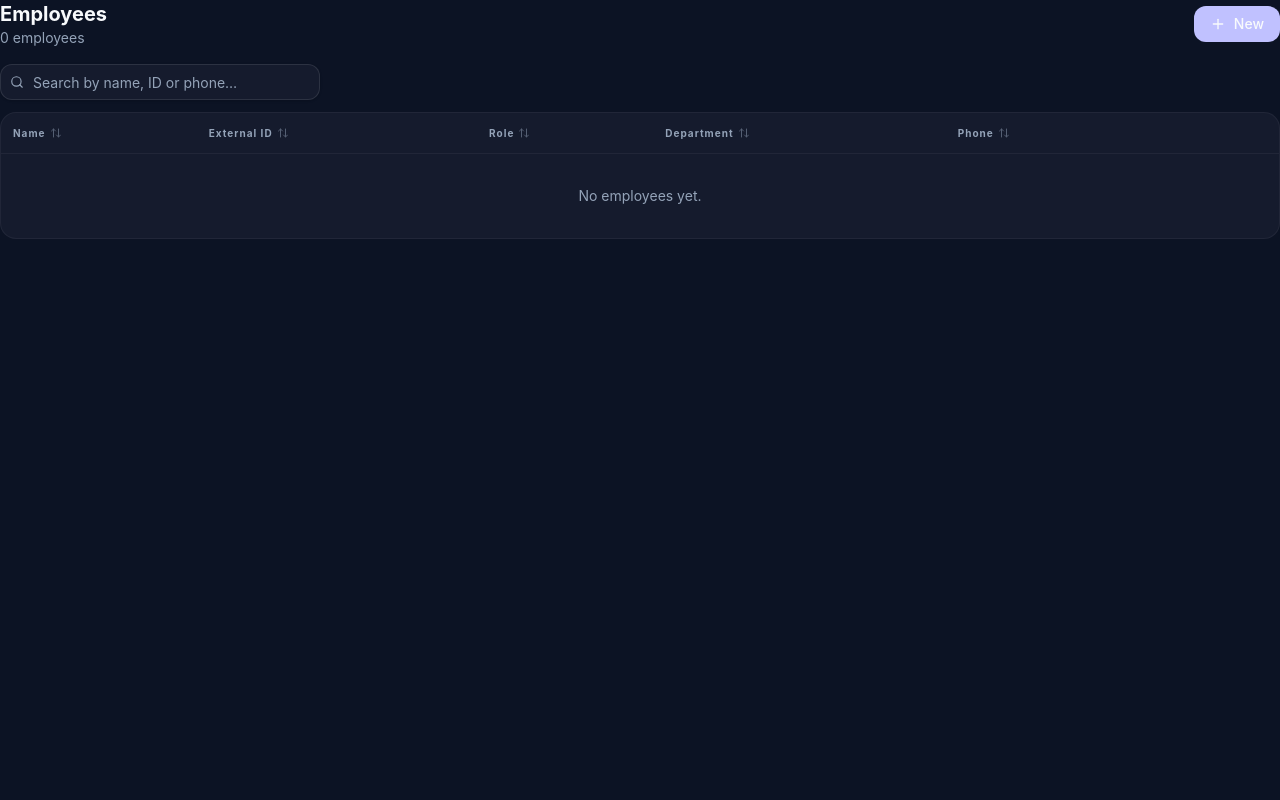
Test case: EmployeesPage › crea un empleado vía dialog y refresca la lista
Check: the text "No employees yet." is shown, box [1, 153, 1279, 238]
Click the button with test id "new-employee-btn" at (1237, 24), box [1194, 6, 1279, 42]
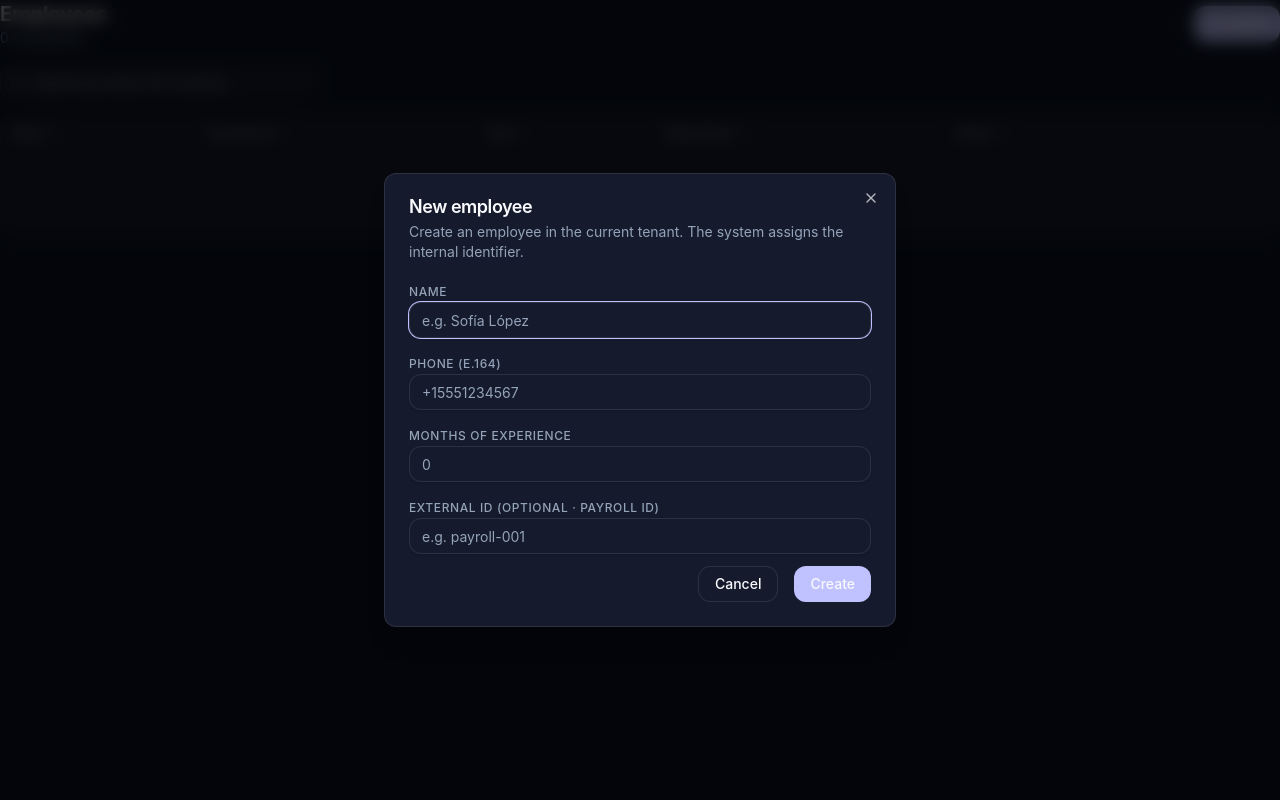
Type "Sofía López" into the field with test id "employee-name-input" at (640, 320), box [409, 302, 871, 338]
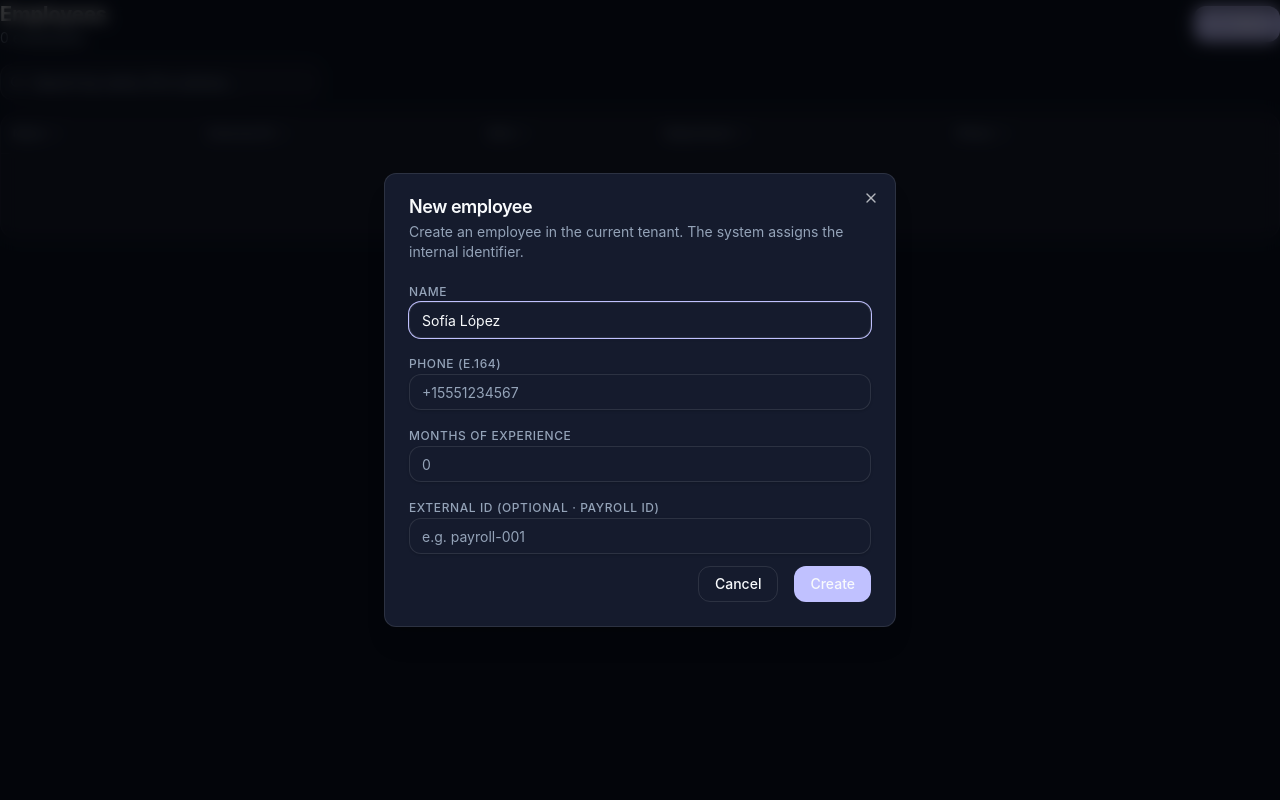
Type "+5491100" into the field with test id "employee-phone-input" at (640, 392), box [409, 374, 871, 410]
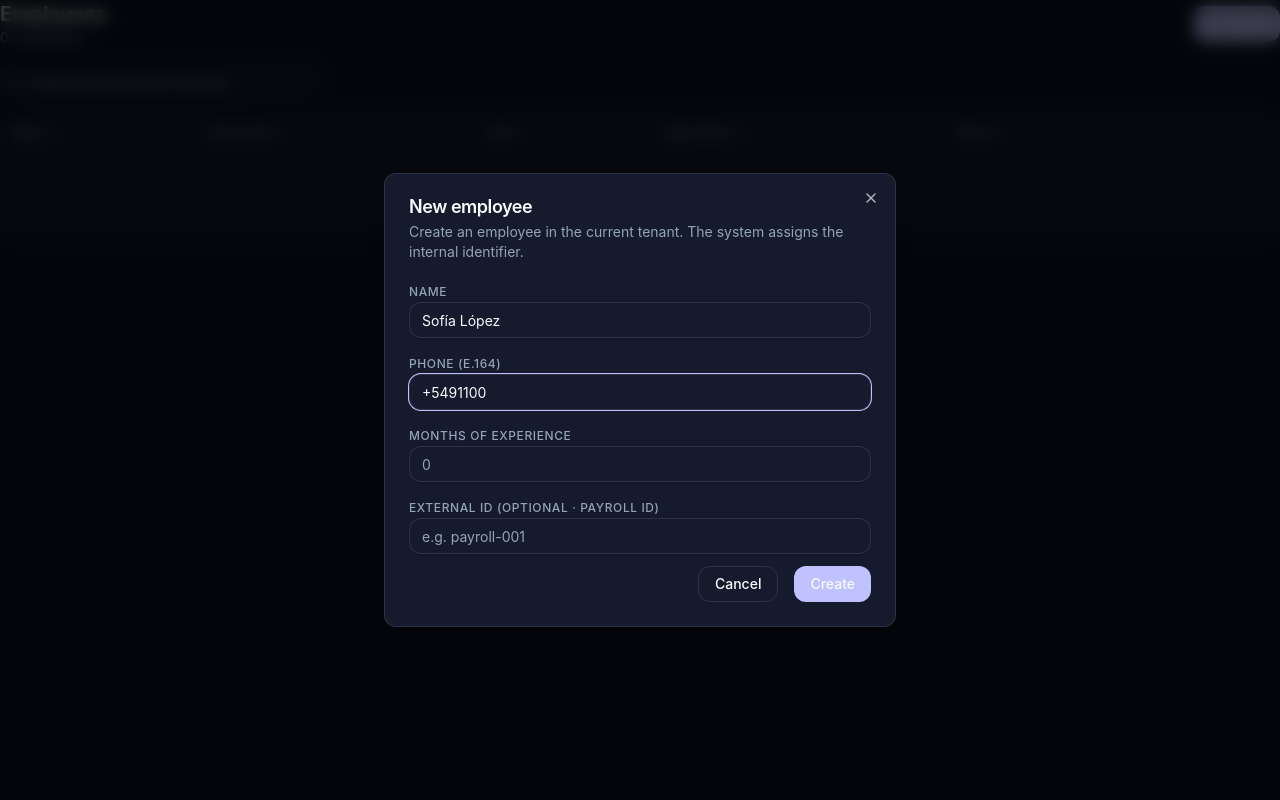
Type "12" into the number field with test id "employee-exp-input" at (640, 464), box [409, 446, 871, 482]
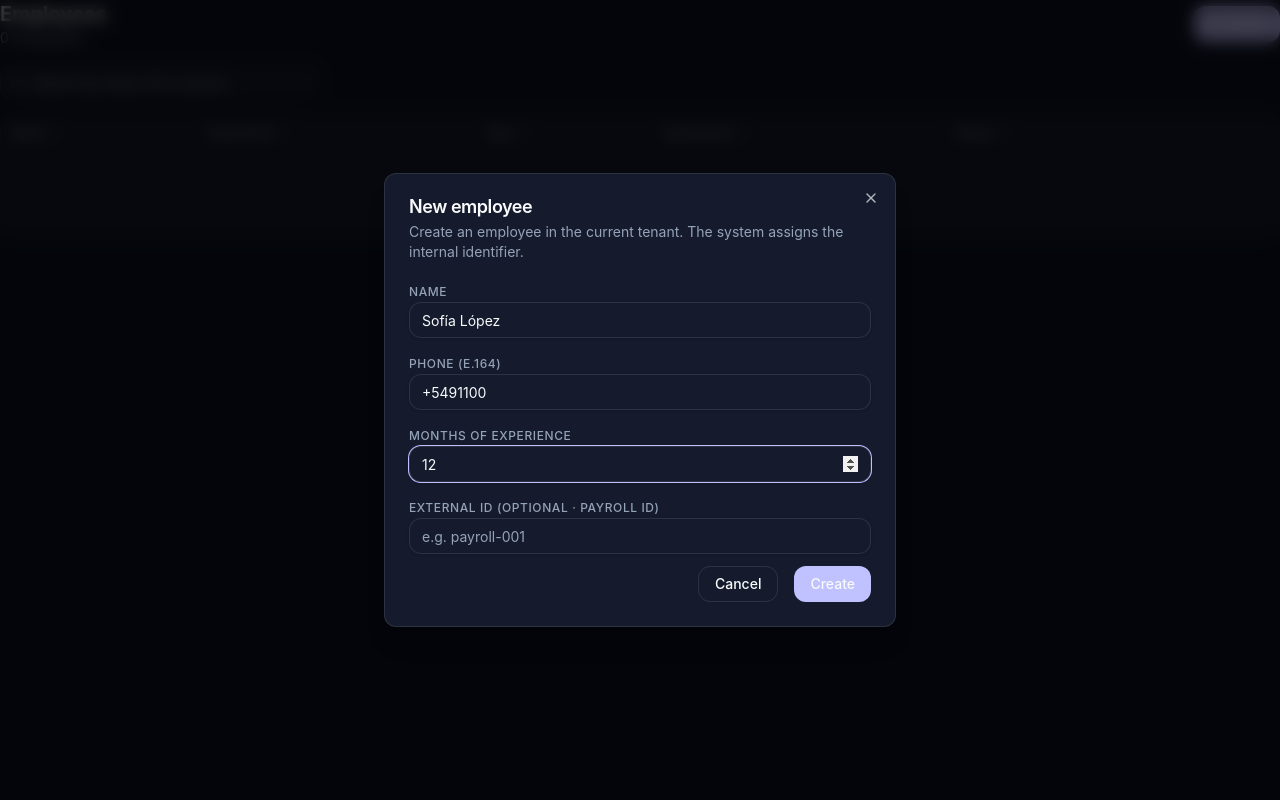
Type "leg-1" into the field with test id "employee-external-id-input" at (640, 536), box [409, 518, 871, 554]
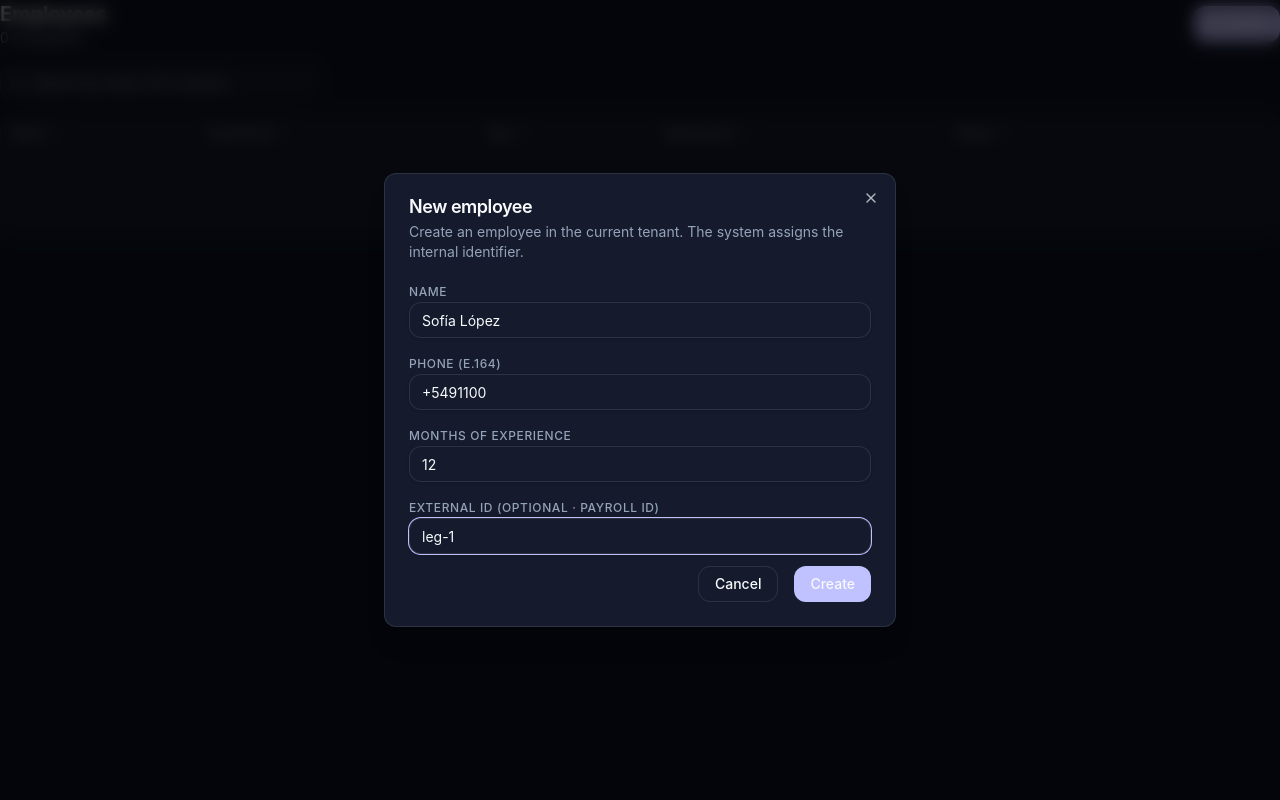
Click the button with test id "employee-submit" at (833, 584), box [794, 566, 871, 602]
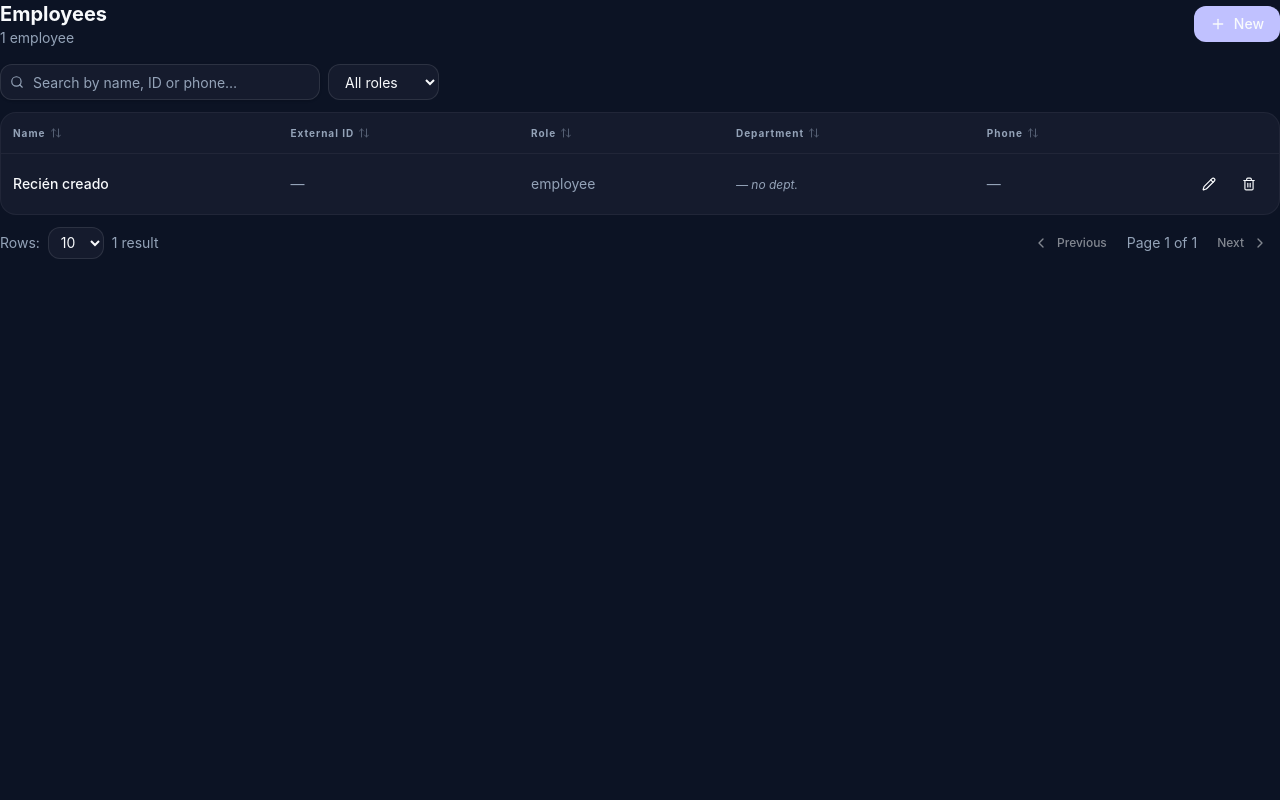
Check: the link "Recién creado" is shown, box [13, 174, 109, 192]
